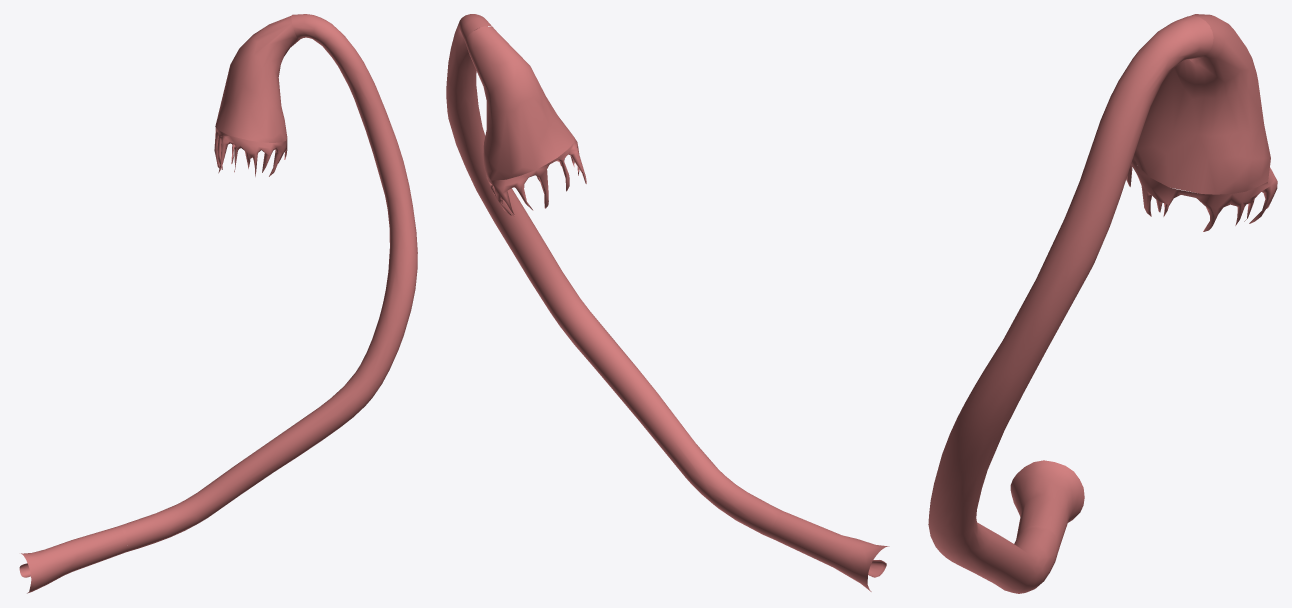
Rendered from fallopian_l.glb.
3 renders of one model, left to right at view 1: azimuth 30°, elevation 25°; view 2: azimuth 150°, elevation 25°; view 3: azimuth 270°, elevation 25°, orthographic. The views are drawn at different scales.
Visible parts, largest first — view 1: VH_F_ampulla_of_uterine_tube_L, VH_F_uterine_tube_infundibulum_L, VH_F_isthmus_of_fallopian_tube_L, VH_F_fibria_of_uterine_tube_L; view 2: VH_F_ampulla_of_uterine_tube_L, VH_F_uterine_tube_infundibulum_L, VH_F_isthmus_of_fallopian_tube_L, VH_F_fibria_of_uterine_tube_L; view 3: VH_F_ampulla_of_uterine_tube_L, VH_F_uterine_tube_infundibulum_L, VH_F_isthmus_of_fallopian_tube_L, VH_F_fibria_of_uterine_tube_L.
Part boxes in pixels (x1,y1,x2,y2): VH_F_ampulla_of_uterine_tube_L: (118, 14, 417, 551); VH_F_uterine_tube_infundibulum_L: (215, 15, 299, 142); VH_F_isthmus_of_fallopian_tube_L: (19, 526, 127, 593); VH_F_fibria_of_uterine_tube_L: (214, 128, 287, 176); VH_F_ampulla_of_uterine_tube_L: (446, 14, 785, 539); VH_F_uterine_tube_infundibulum_L: (465, 26, 574, 180); VH_F_isthmus_of_fallopian_tube_L: (771, 512, 889, 591); VH_F_fibria_of_uterine_tube_L: (486, 136, 586, 216); VH_F_ampulla_of_uterine_tube_L: (928, 16, 1213, 593); VH_F_uterine_tube_infundibulum_L: (1133, 14, 1270, 194); VH_F_isthmus_of_fallopian_tube_L: (1010, 460, 1084, 548); VH_F_fibria_of_uterine_tube_L: (1126, 158, 1277, 231).
Size of the model in its own units: 0.0386 by 0.0445 by 0.0185.
